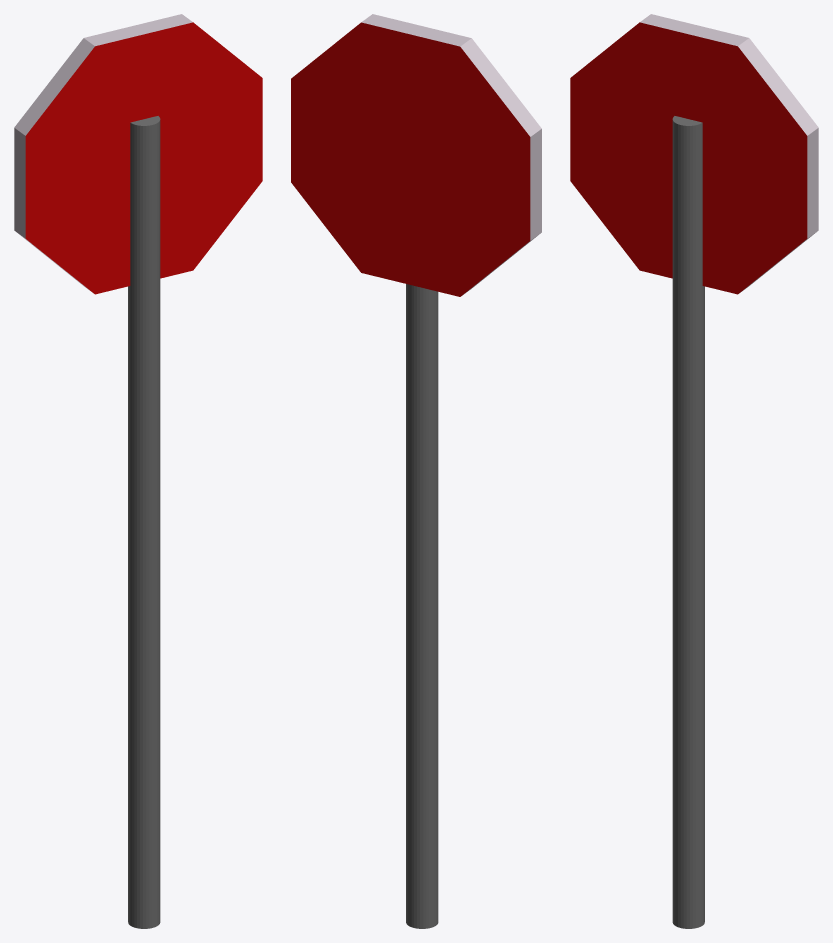
File: StopSign.fbx
3 renders of one model, left to right at view 1: azimuth 30°, elevation 25°; view 2: azimuth 150°, elevation 25°; view 3: azimuth 330°, elevation 25°, orthographic.
Parts seen in each view (by area): view 1: Circle, Cylinder; view 2: Circle, Cylinder; view 3: Circle, Cylinder.
Part boxes in pixels (x1=…): Circle: x1=14, y1=14, x2=262, y2=294; Cylinder: x1=128, y1=116, x2=160, y2=928; Circle: x1=291, y1=14, x2=541, y2=296; Cylinder: x1=406, y1=284, x2=438, y2=928; Circle: x1=570, y1=14, x2=818, y2=294; Cylinder: x1=672, y1=116, x2=704, y2=928.
Bounding box in the file's own units: 1.05 × 3.75 × 0.1491.
